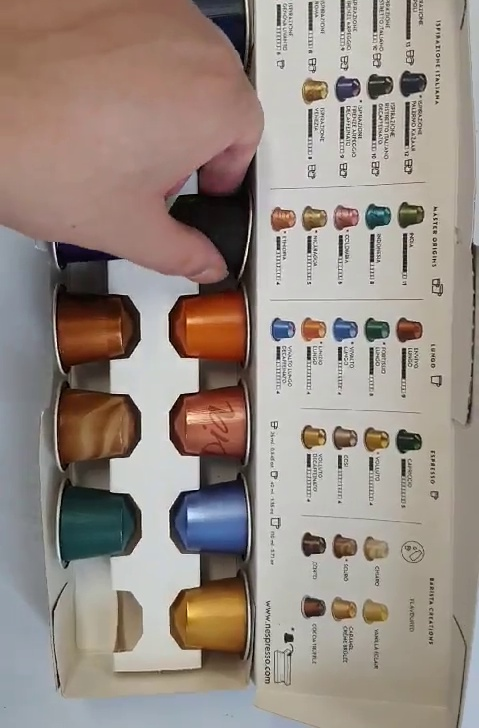capsule_4: (162, 185, 256, 284)
